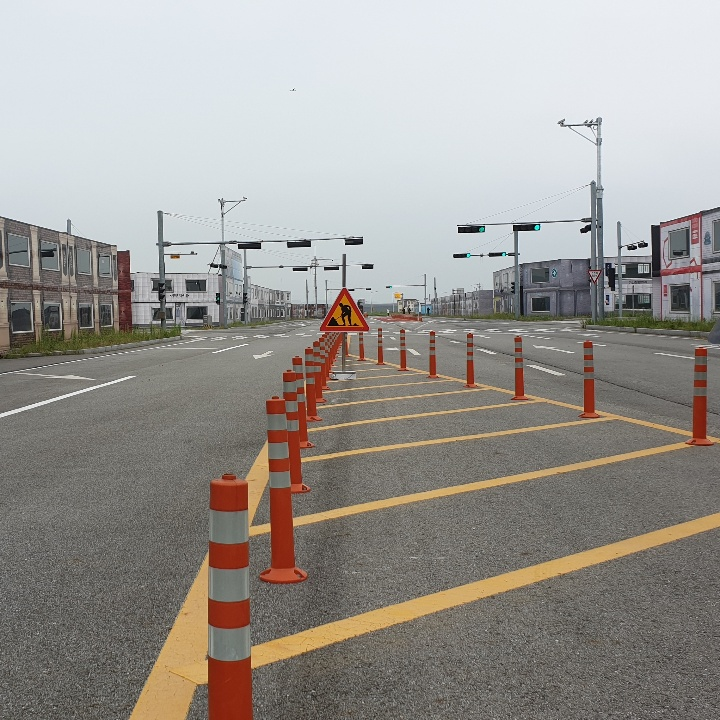const: (324, 290, 362, 328)
